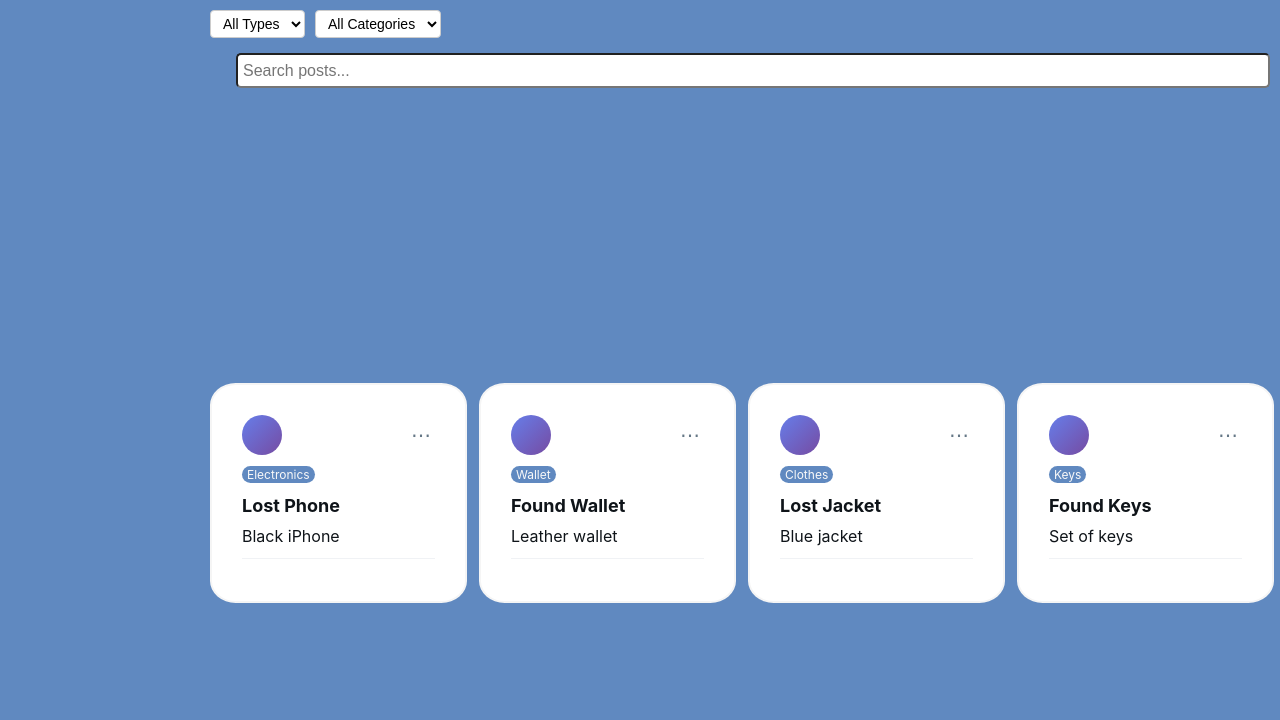
Scenario: Search page › filters posts by category
The width and height of the screenshot is (1280, 720).
Expected: the heading "Lost Phone" is shown, [242,495,340,516]
Select "Electronics" in the 2nd dropdown: (378,24) [315,10,441,38]
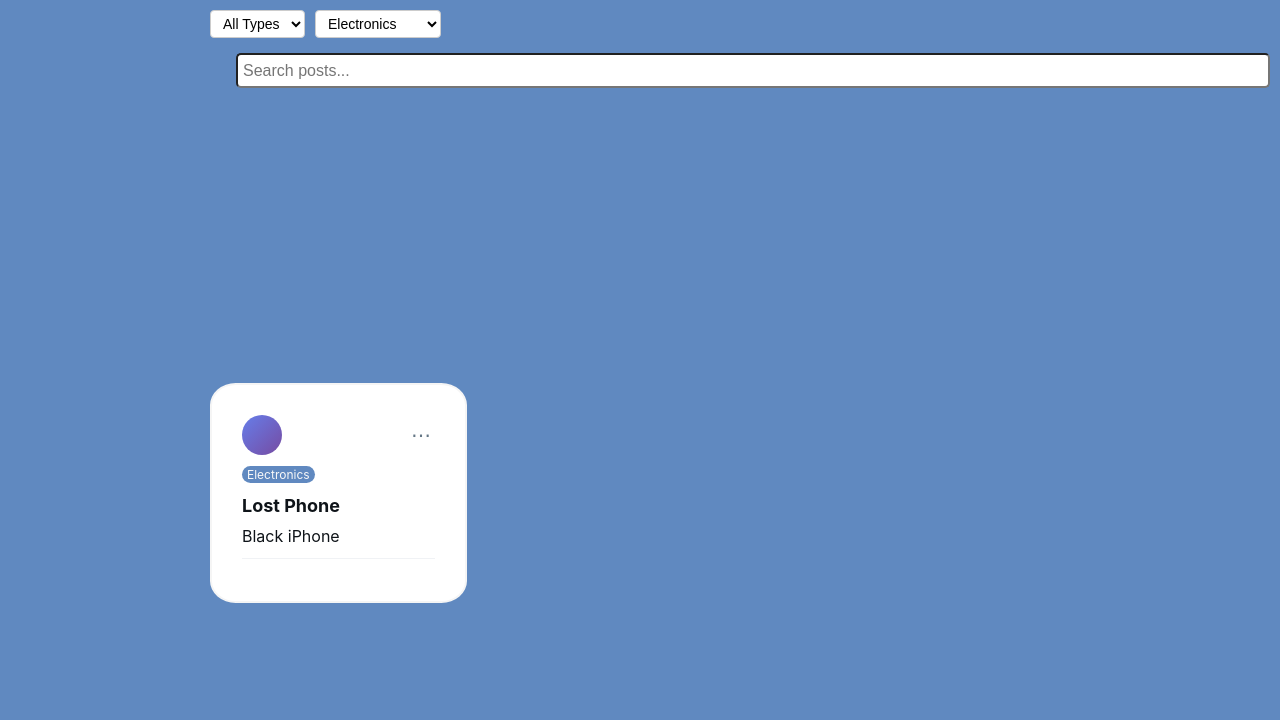
Expected: the heading "Lost Phone" is shown, [242,495,340,516]
Result: the heading "Lost Jacket" is gone
